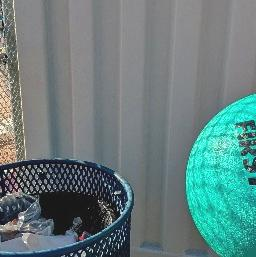algae: (185, 87, 256, 257)
